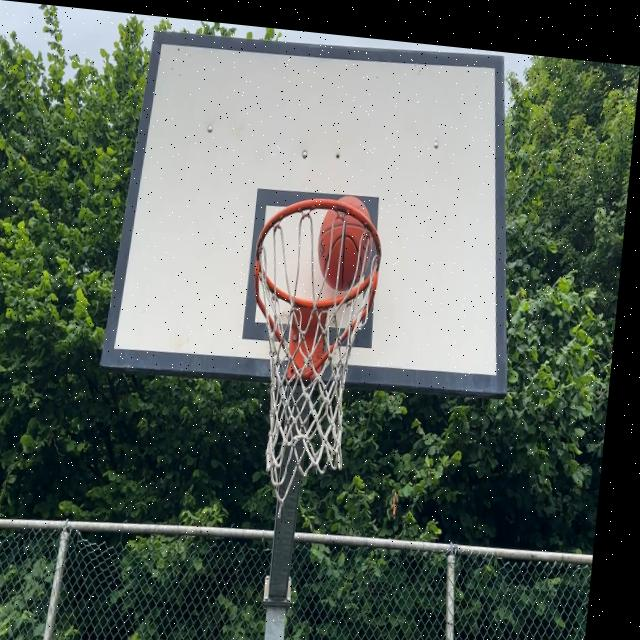rebound_hit: (314, 194, 377, 294)
